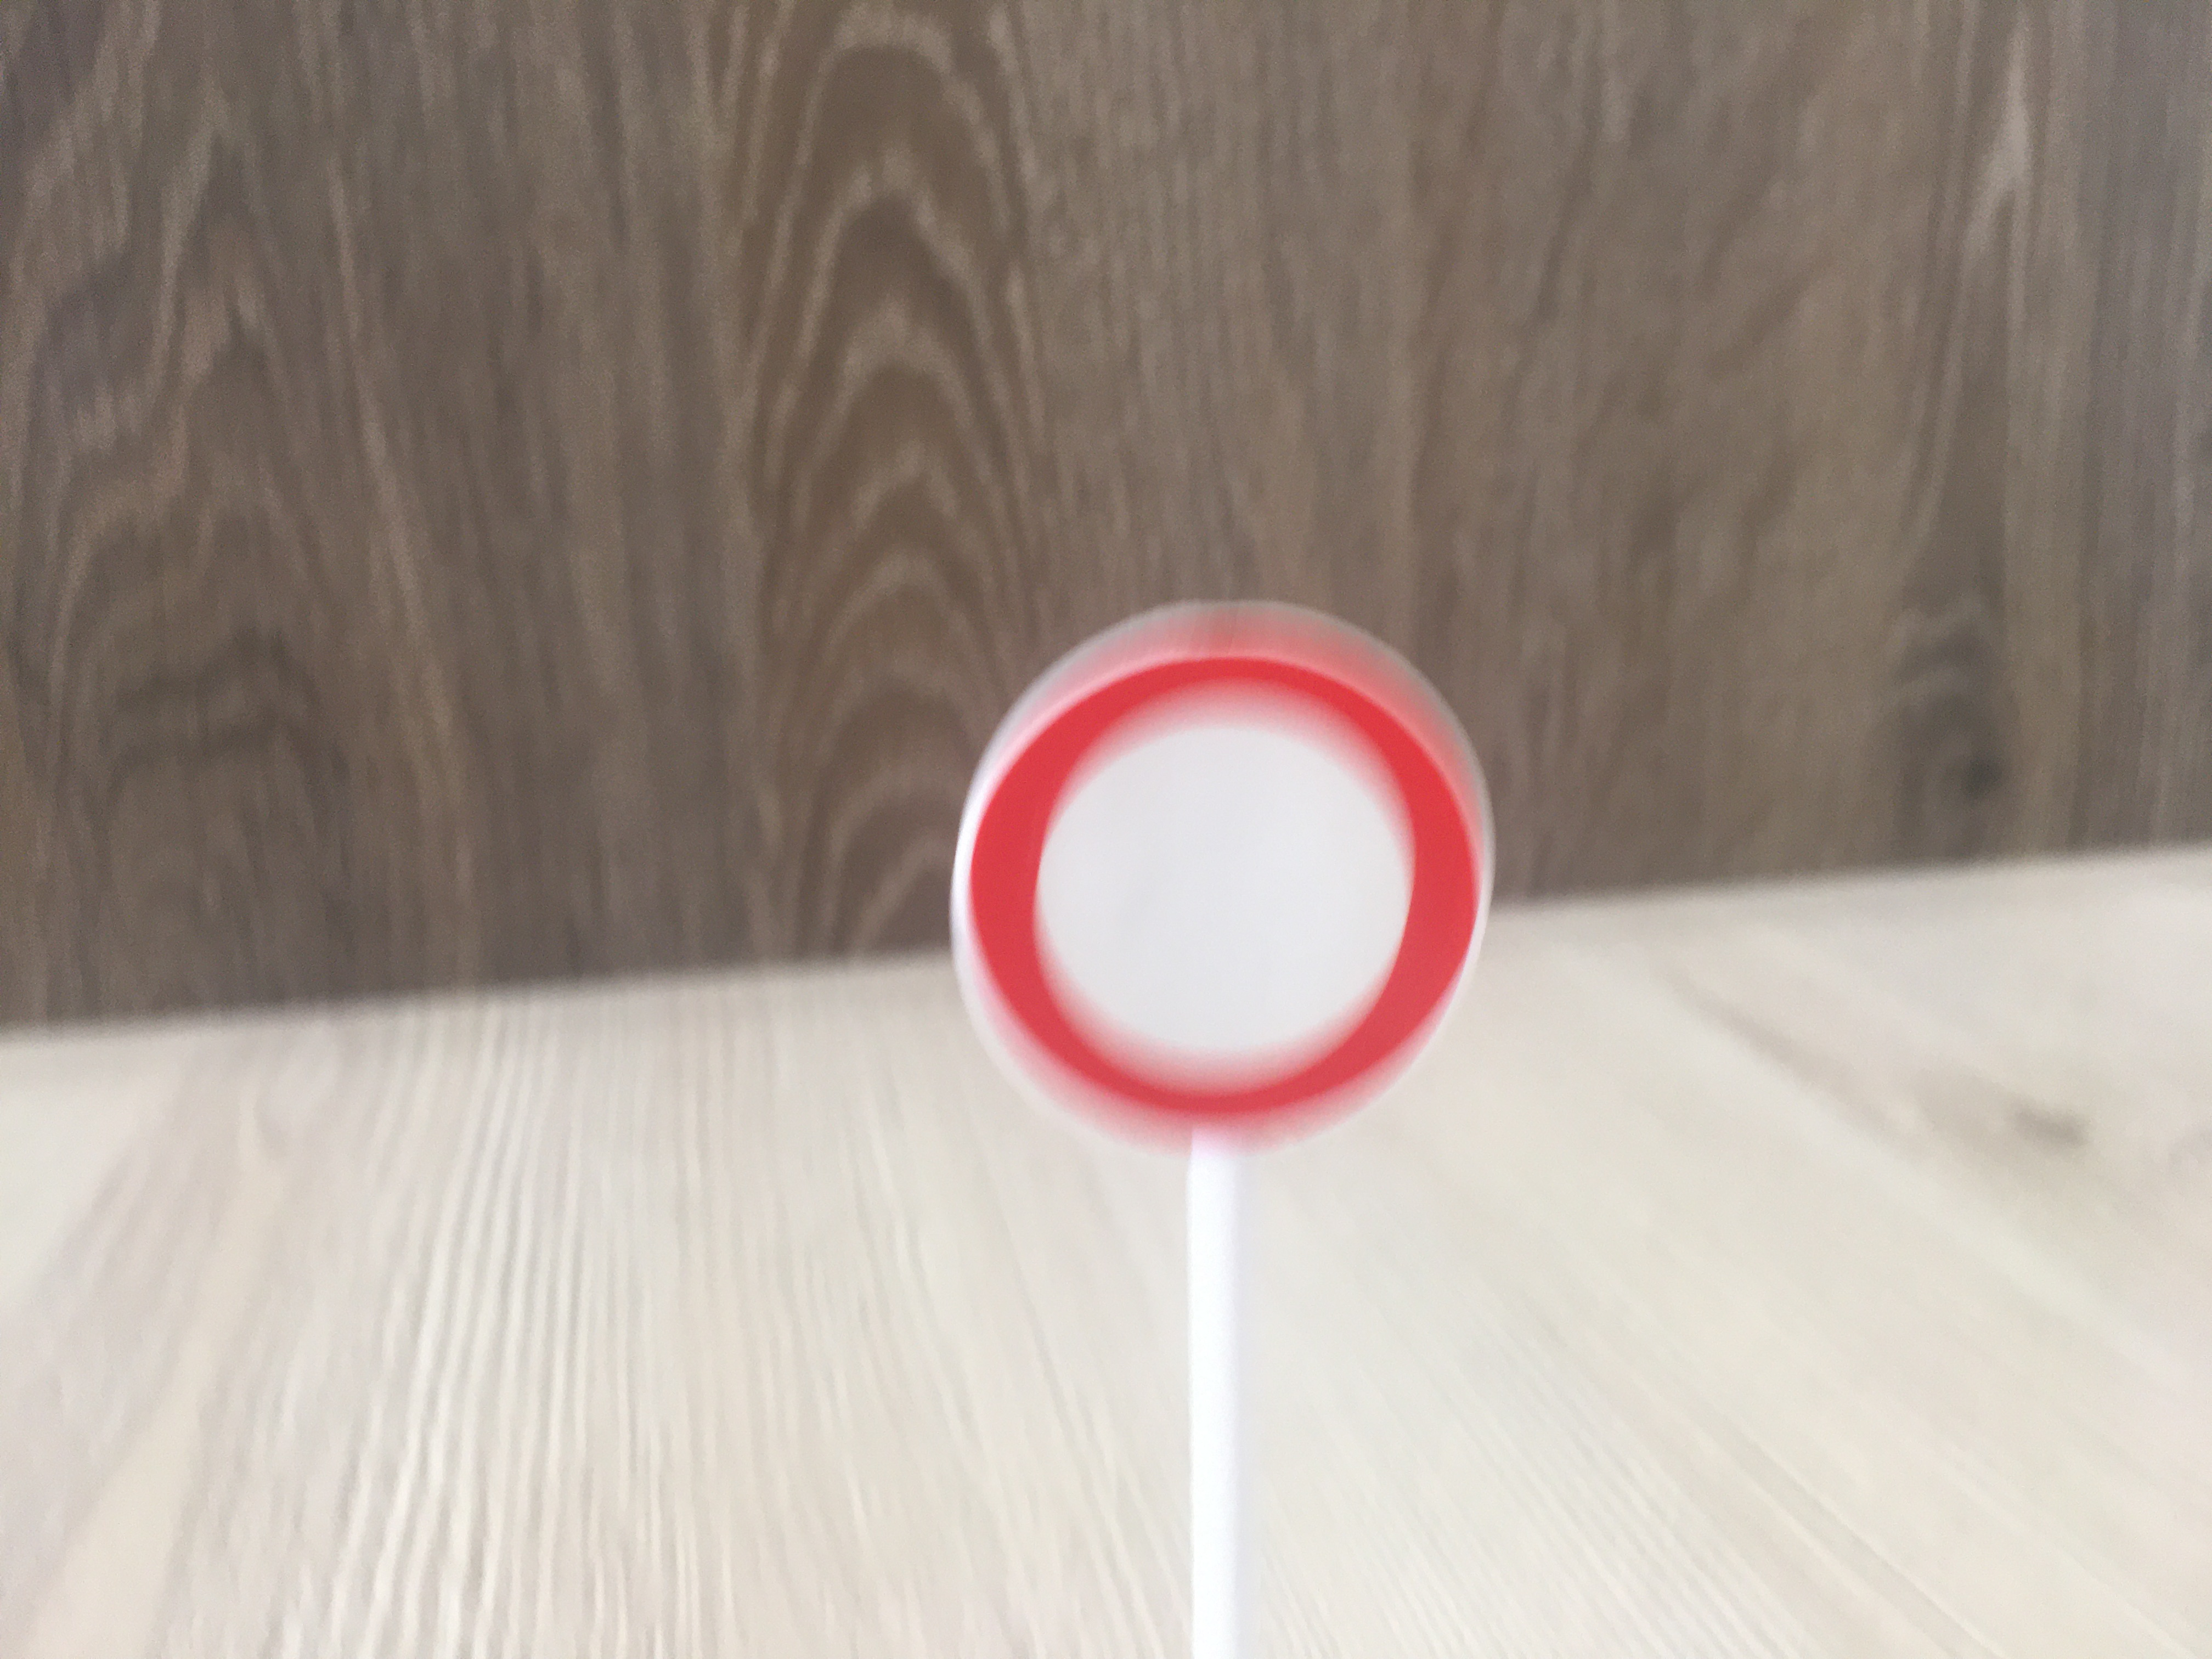noDrive: (948, 605, 1496, 1185)
